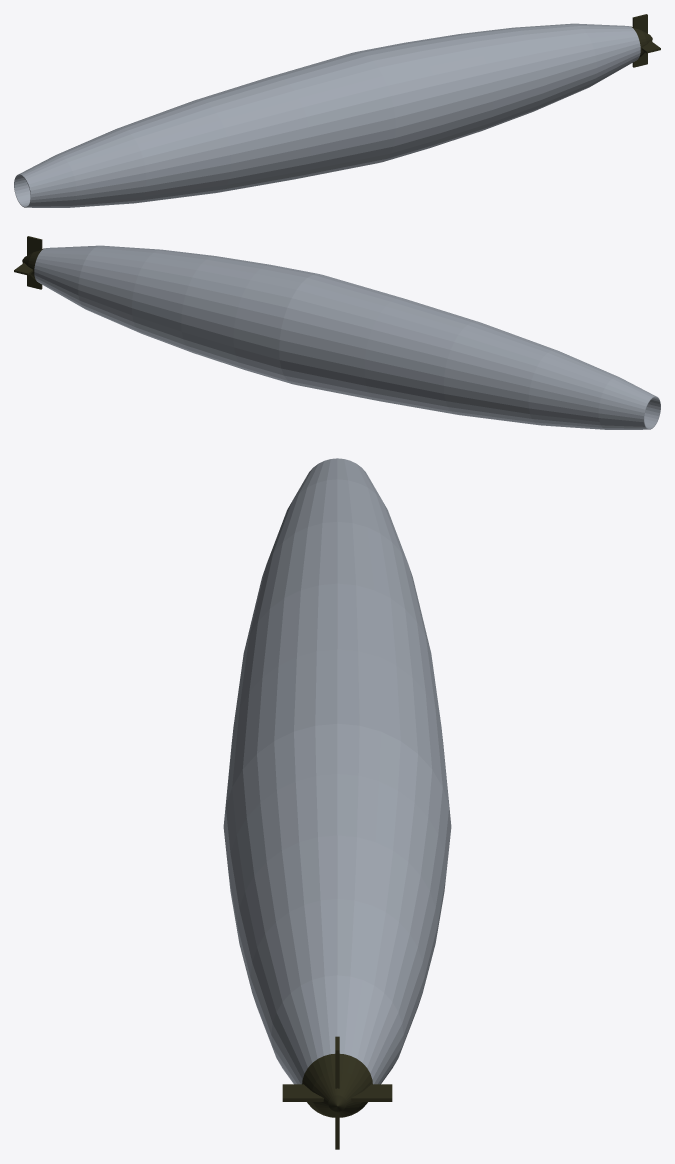
3 renders of one model, top to bottom at view 1: azimuth 30°, elevation 25°; view 2: azimuth 150°, elevation 25°; view 3: azimuth 270°, elevation 25°, orthographic. The views are drawn at different scales.
Parts seen in each view (by area): view 1: 立方体; view 2: 立方体; view 3: 立方体.
Part boxes in pixels (box(x1,y1,x2,y2)): 立方体: box(14, 14, 660, 207); 立方体: box(14, 236, 660, 429); 立方体: box(223, 458, 451, 1149).
Size of the model in its own units: 6.04 by 0.9449 by 0.9449.
2 materials, 1 textured.
